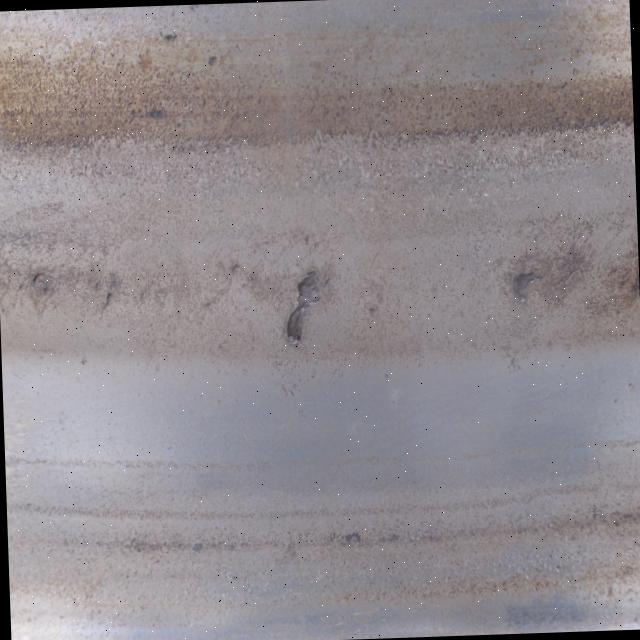Blue hole: (33, 270, 46, 290)
Peeling: (285, 271, 325, 348), (512, 268, 547, 303)
